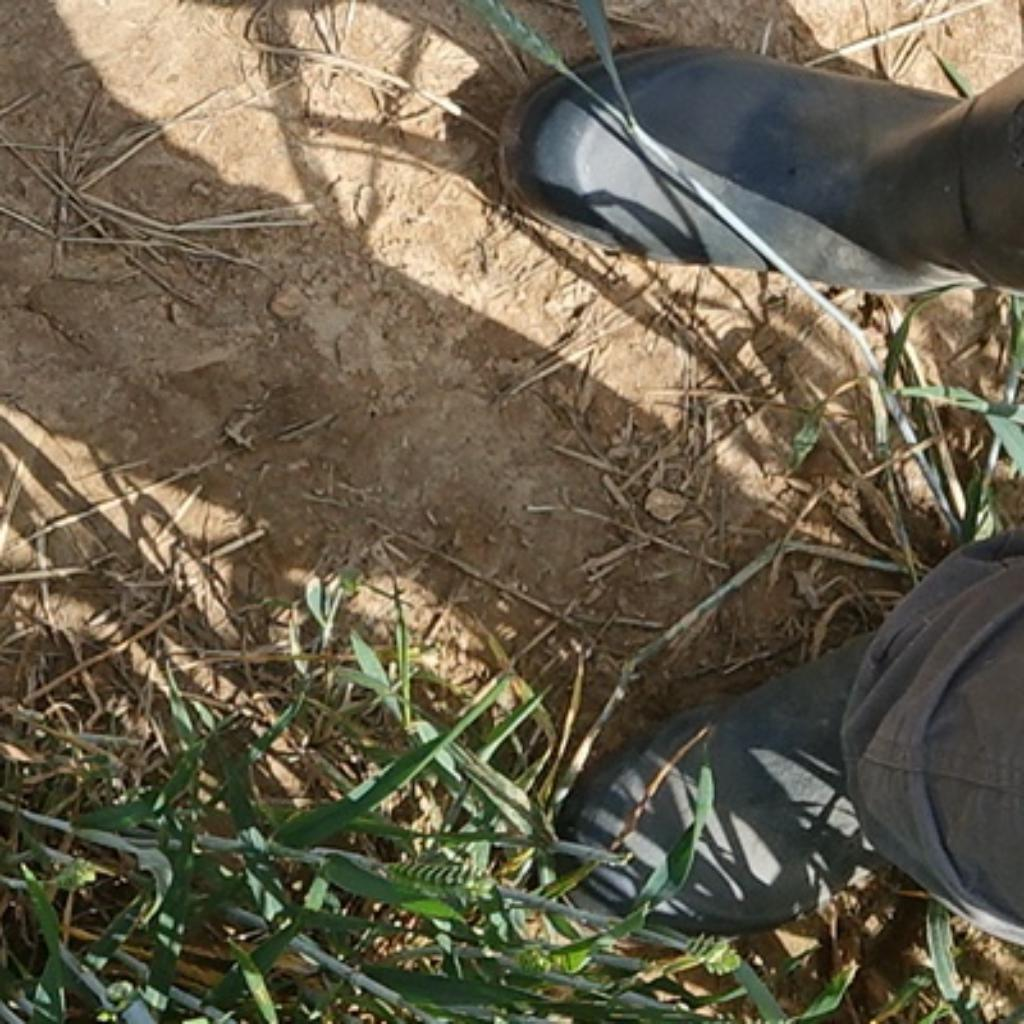0-0: (458, 0, 582, 83), (377, 850, 507, 904), (677, 930, 748, 984), (512, 942, 562, 988), (61, 847, 113, 890)
